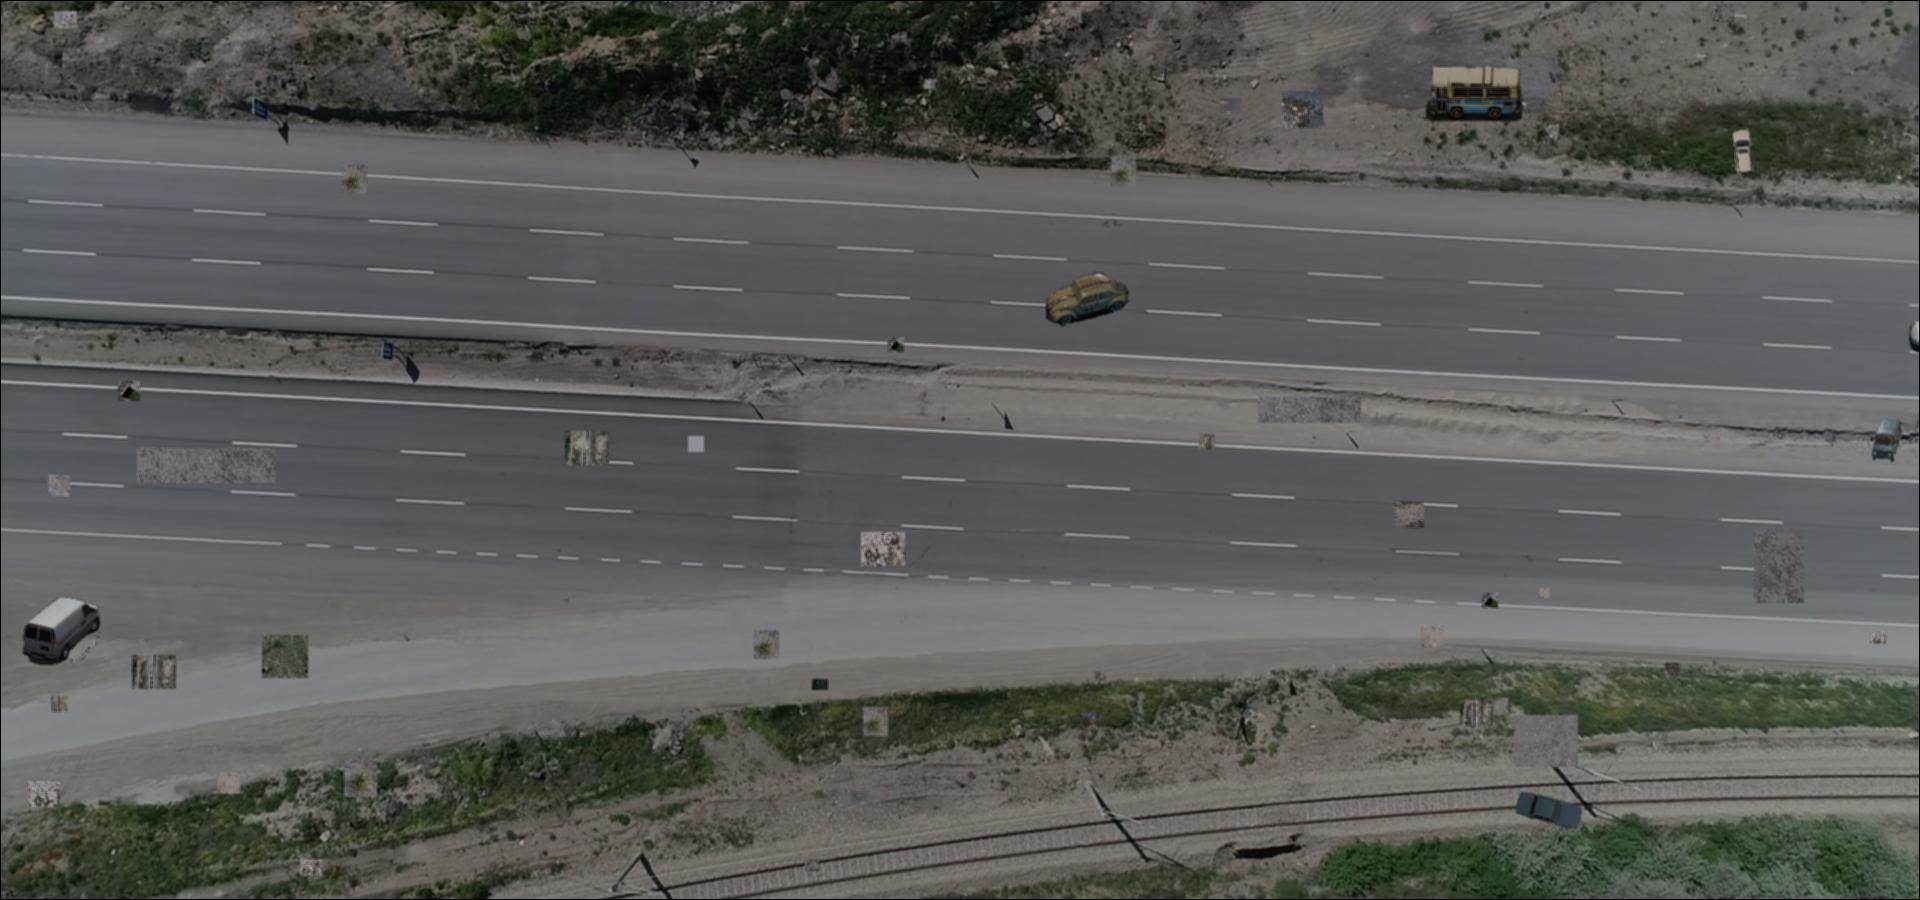arac: (1425, 64, 1522, 121), (23, 598, 100, 665), (1046, 269, 1129, 326), (1516, 791, 1583, 829), (1870, 418, 1902, 462), (1731, 130, 1755, 173)
